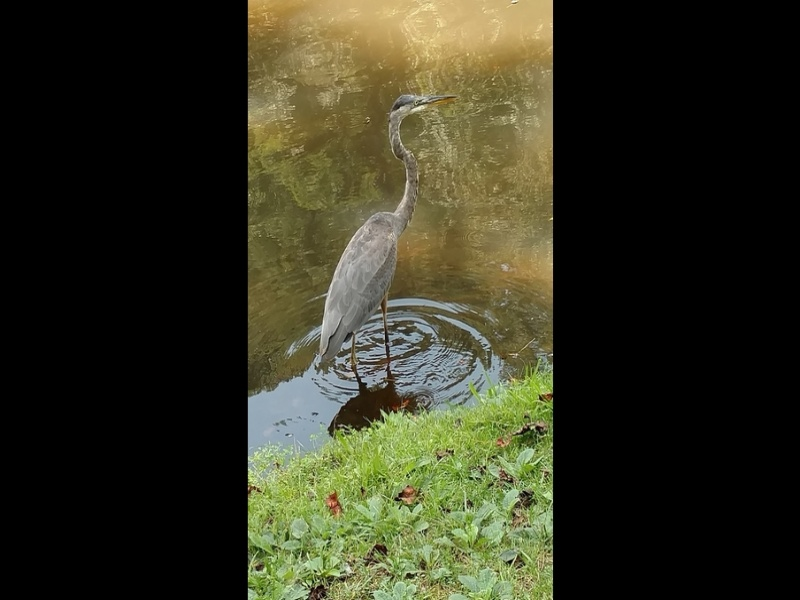heron: (313, 91, 455, 386)
